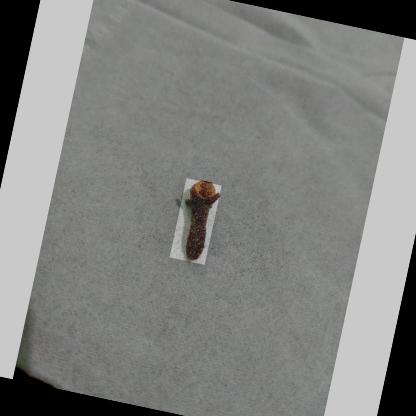baik: (182, 182, 219, 262)
